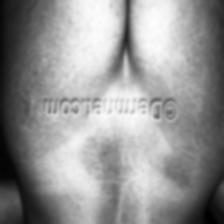Potentially Malignant Skin Tumors: (77, 134, 127, 180), (6, 78, 33, 124)
